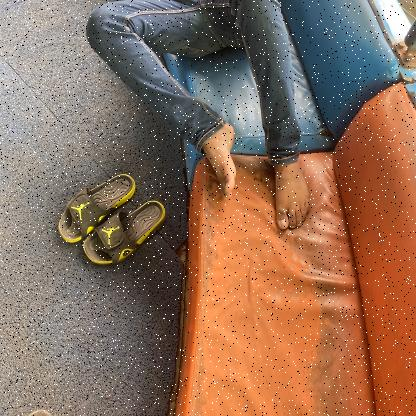leg: (136, 74, 246, 207), (239, 86, 318, 236)
